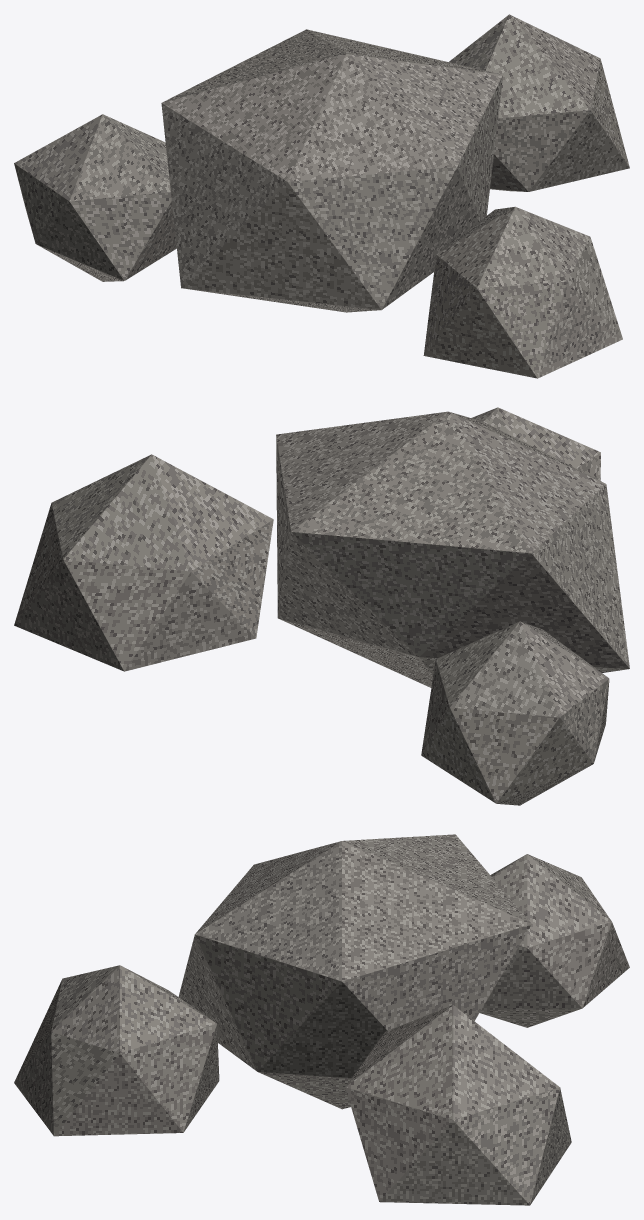
Rendered from rock_cluster.glb.
3 renders of one model, top to bottom at view 1: azimuth 30°, elevation 25°; view 2: azimuth 150°, elevation 25°; view 3: azimuth 270°, elevation 25°, orthographic. The views are drawn at different scales.
Visible parts, largest first — view 1: Body.015; view 2: Body.015; view 3: Body.015.
Part boxes in pixels (x1,y1,x2,y2): Body.015: (14, 14, 629, 378); Body.015: (14, 407, 629, 805); Body.015: (14, 834, 629, 1205).
Bounding box in the file's own units: 1.71 × 0.8 × 1.66.
1 material, 1 textured.
